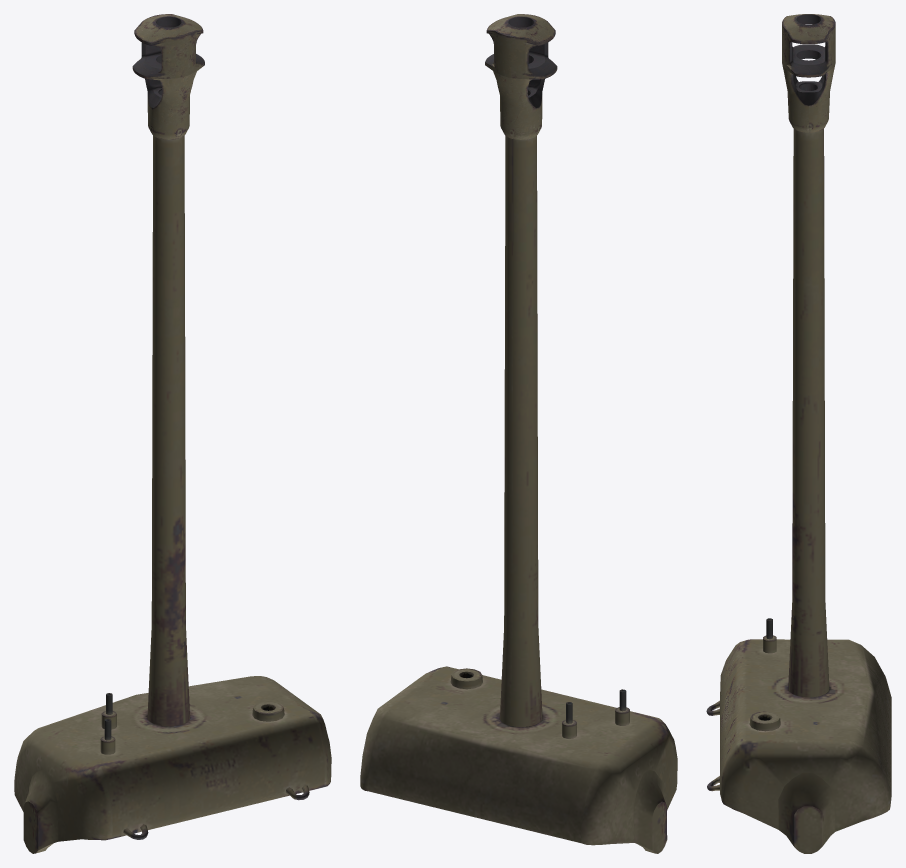
Rendered from Gun_02.glb.
The picture shows the model from 3 angles, left to right: view 1: azimuth 30°, elevation 25°; view 2: azimuth 150°, elevation 25°; view 3: azimuth 270°, elevation 25°; orthographic projection. The views are drawn at different scales.
Visible parts, largest first — view 1: set_0_group_0; view 2: set_0_group_0; view 3: set_0_group_0.
Part boxes in pixels (x1,y1,x2,y2): set_0_group_0: [14, 14, 331, 853]; set_0_group_0: [360, 14, 677, 853]; set_0_group_0: [706, 14, 891, 853].
Bounding box in the file's own units: 1.55 × 4.16 × 0.9106.
1 material, 1 textured.
